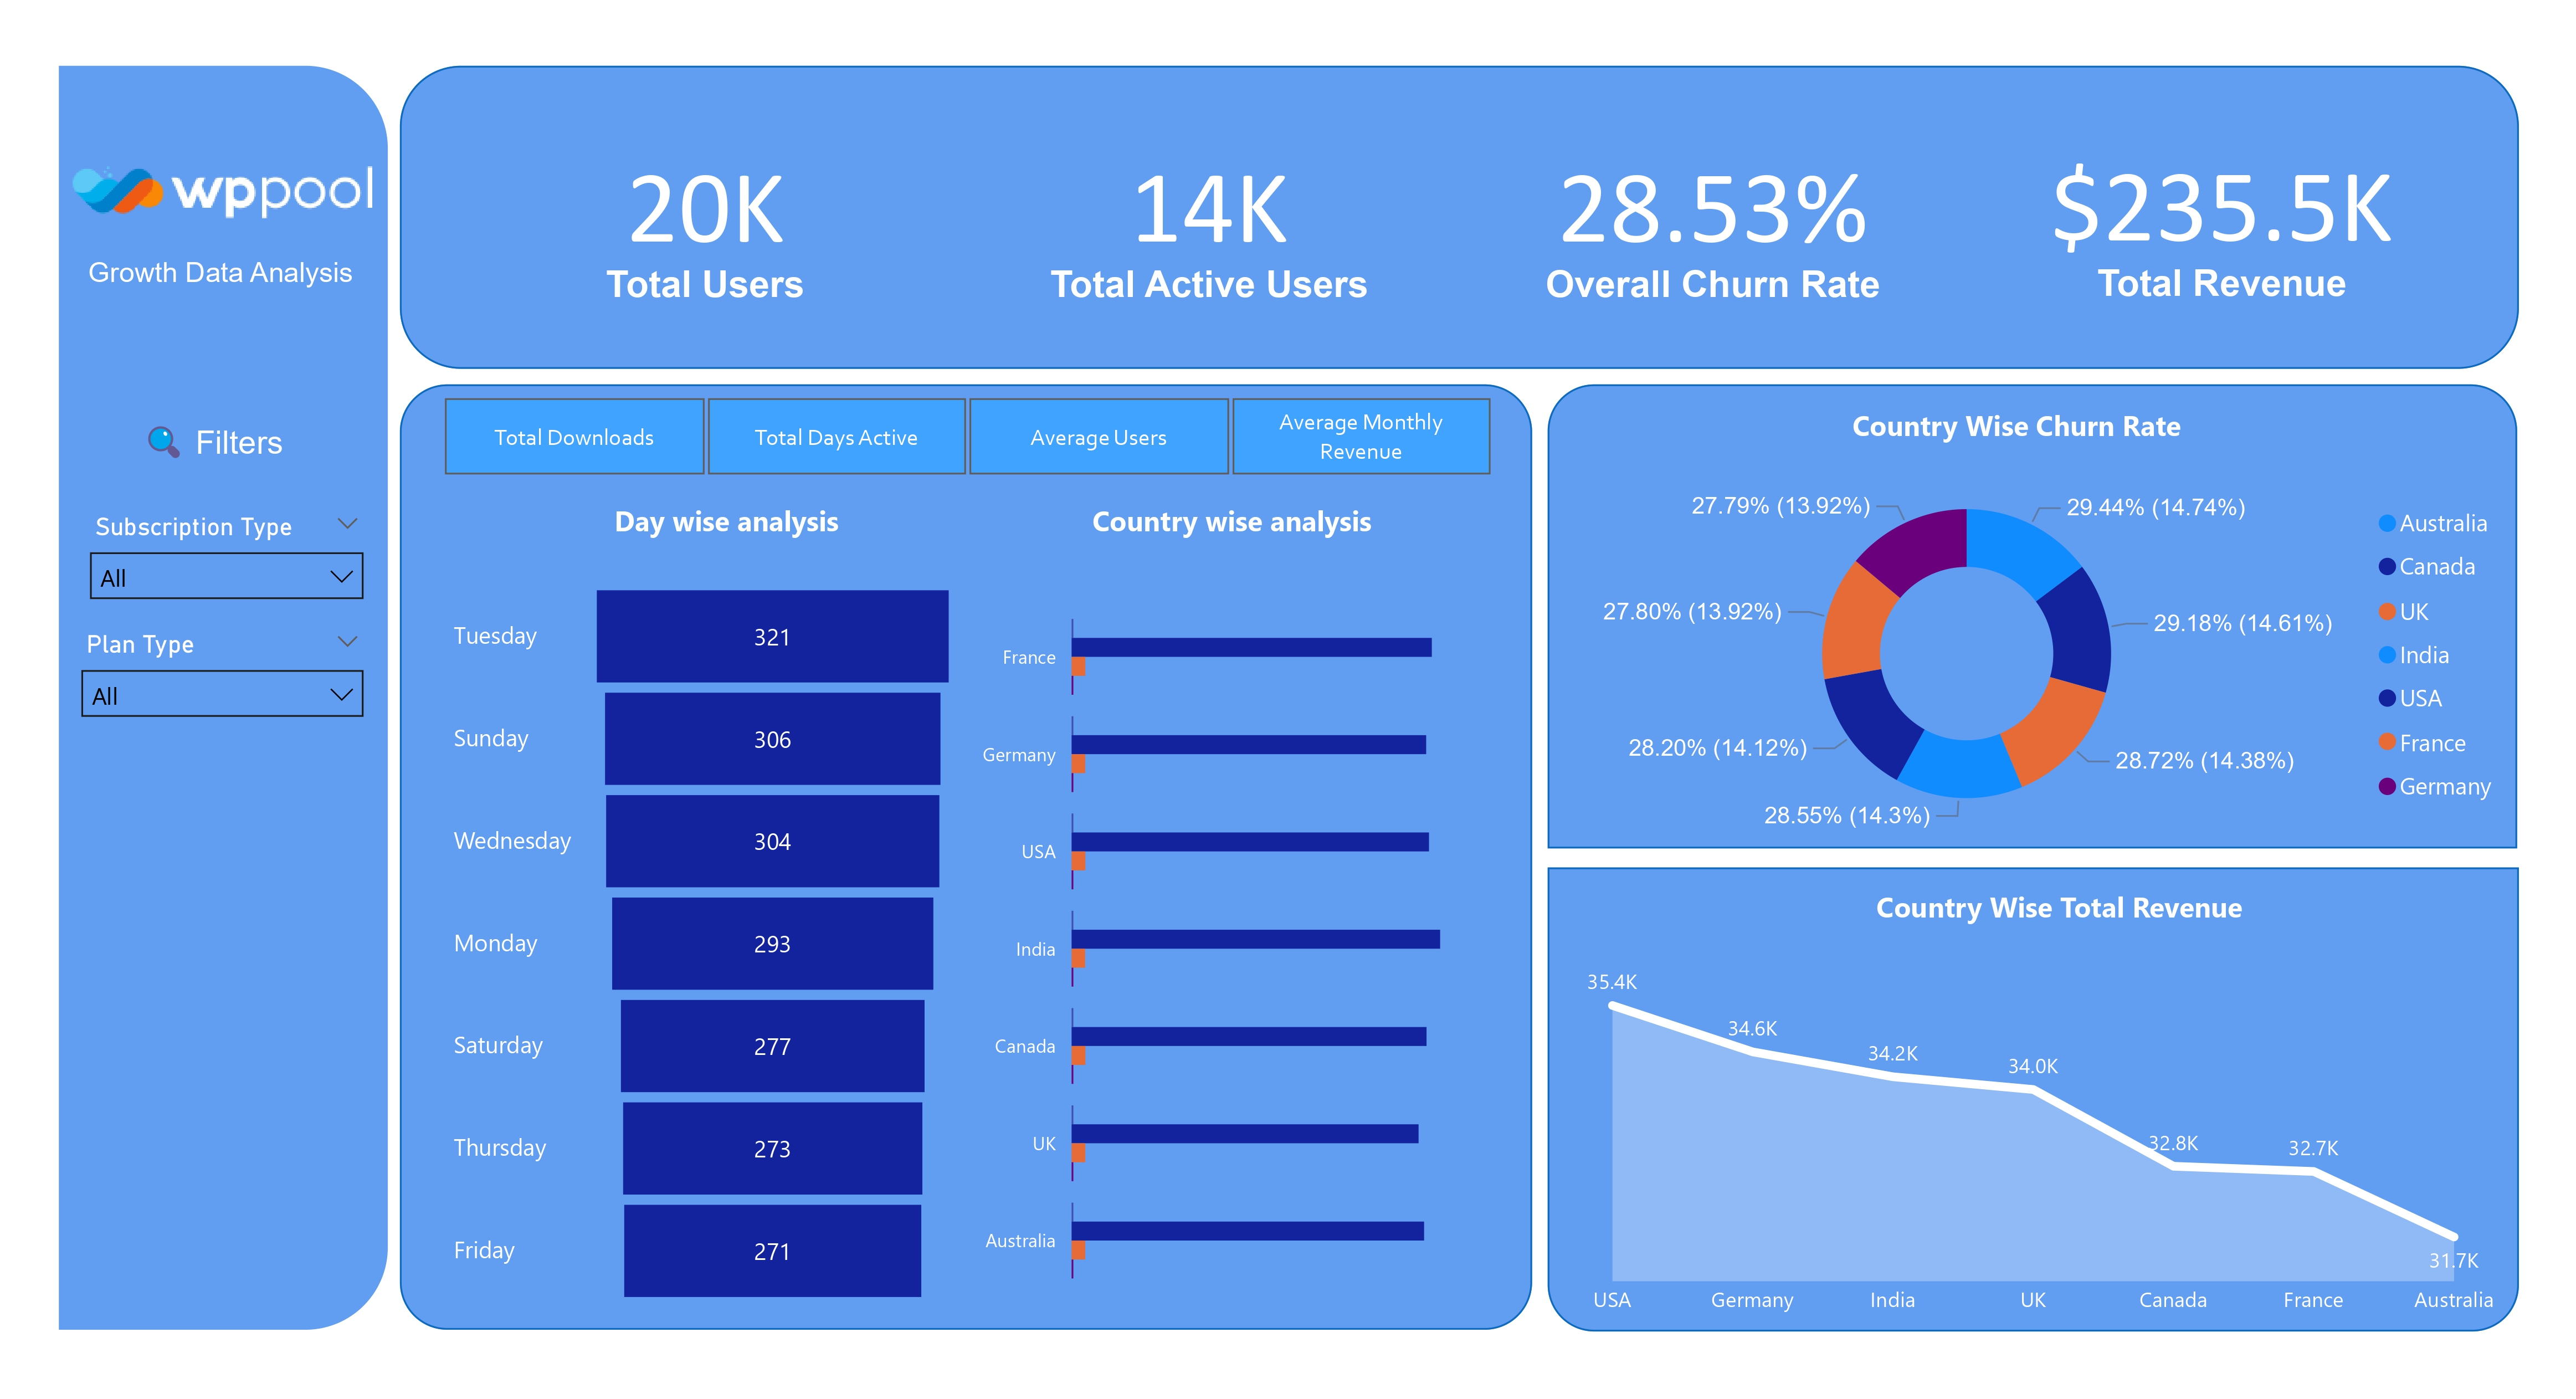

This screenshot's page, from the dashboard's own definition file:
{"tool":"powerbi","page":{"name":"Page 1","canvas":[1440,760],"ordinal":0},"visuals":[{"type":"shape","box":[207,198,654,546],"z":0,"group":"g5"},{"type":"shape","box":[870,198,560,268],"z":0,"group":"g3"},{"type":"group","id":"g1","title":"Group 1","box":[206.7,14,1224.4,174.9],"z":1000},{"type":"shape","box":[206.7,14.4,1224.4,174.4],"z":1000,"group":"g1"},{"type":"group","id":"g2","title":"Group 2","box":[10,14.4,190,730],"z":2000},{"type":"card","fields":{"Values":["growth_data users.Total Users"]},"box":[278.9,14.4,208.9,174.4],"z":2000,"group":"g1"},{"type":"card","fields":{"Values":["growth_data users.Total Active Users"]},"box":[570,14.4,208.9,174.4],"z":3000,"group":"g1"},{"type":"group","id":"g3","title":"Group 3","box":[870,198,560,268],"z":3000},{"type":"shape","box":[870,477,561,268],"z":3000,"group":"g4"},{"type":"card","fields":{"Values":["growth_data users.Churn Rate"]},"box":[861.1,14.4,208.9,174.4],"z":4000,"group":"g1"},{"type":"slicer","fields":{"Values":["Metrics.Metrics"]},"box":[207,199,654,54],"z":4000,"group":"g5"},{"type":"areaChart","fields":{"Category":["growth_data users.country"],"Y":["Sum(growth_data users.monthly_revenue)"]},"box":[870,520,561,225],"z":4000,"group":"g4"},{"type":"card","fields":{"Values":["growth_data users.Total Revenue"]},"box":[1150,14,219,174],"z":5000,"group":"g1"},{"type":"clusteredBarChart","fields":{"Y":["growth_data users.Total Downloads","growth_data users.Total Days Active","growth_data users.Average Users","growth_data users.Average Monthly Revenue"],"Category":["growth_data users.country"]},"box":[534.3,298,303.6,445.5],"z":5000,"group":"g5"},{"type":"textbox","box":[1055,484,242,36],"z":5000,"group":"g4"},{"type":"shape","box":[10,14.4,190,730],"z":6000,"group":"g2"},{"type":"textbox","box":[602,261,187,38],"z":6000,"group":"g5"},{"type":"image","box":[13.3,53.4,182.2,67.4],"z":7000,"group":"g2"},{"type":"group","id":"g4","title":"Group 4","box":[870,477,561,268],"z":7000},{"type":"textbox","box":[18,120,171,29],"z":8000,"group":"g2"},{"type":"funnel","fields":{"Y":["growth_data users.Total Downloads"],"Category":["growth_data users.Day Name"]},"box":[233.4,298,300.9,445.5],"z":8000,"group":"g5"},{"type":"slicer","fields":{"Values":["growth_data users.subscription_type"]},"box":[13,261,183,69],"z":9000,"group":"g2"},{"type":"textbox","box":[326,261,152,38],"z":9000,"group":"g5"},{"type":"group","id":"g5","title":"Group 5","box":[207,198,654,546],"z":9001},{"type":"slicer","fields":{"Values":["growth_data users.plan_type"]},"box":[13.3,335.7,182.2,61.1],"z":10000,"group":"g2"},{"type":"textbox","box":[53.3,213.5,105.6,37.9],"z":11000,"group":"g2"},{"type":"donutChart","fields":{"Category":["growth_data users.country"],"Y":["growth_data users.Churn Rate"]},"box":[870,241.4,560,224.6],"z":15000,"group":"g3"},{"type":"textbox","box":[1041,206,221,35],"z":16000,"group":"g3"}]}

Visuals, with their boxes in screenshot pixels (x1, y1, x2, y2):
shape: box(392, 376, 1546, 1340)
shape: box(1562, 376, 2549, 849)
"Group 1" group: box(392, 52, 2552, 360)
shape: box(392, 52, 2552, 360)
"Group 2" group: box(44, 52, 379, 1340)
card - growth_data users.Total Users: box(519, 52, 887, 360)
card - growth_data users.Total Active Users: box(1033, 52, 1401, 360)
"Group 3" group: box(1562, 376, 2549, 849)
shape: box(1562, 868, 2552, 1341)
card - growth_data users.Churn Rate: box(1546, 52, 1915, 360)
slicer - Metrics.Metrics: box(392, 378, 1546, 473)
areaChart - growth_data users.country x Sum(growth_data users.monthly_revenue): box(1562, 944, 2552, 1341)
card - growth_data users.Total Revenue: box(2056, 52, 2442, 358)
clusteredBarChart - growth_data users.Total Downloads x growth_data users.Total Days Active: box(969, 552, 1505, 1339)
textbox: box(1888, 881, 2315, 944)
shape: box(44, 52, 379, 1340)
textbox: box(1089, 488, 1419, 555)
image: box(50, 121, 372, 240)
"Group 4" group: box(1562, 868, 2552, 1341)
textbox: box(59, 239, 360, 290)
funnel - growth_data users.Total Downloads x growth_data users.Day Name: box(439, 552, 969, 1339)
slicer - growth_data users.subscription_type: box(50, 488, 373, 609)
textbox: box(602, 488, 870, 555)
"Group 5" group: box(392, 376, 1546, 1340)
slicer - growth_data users.plan_type: box(50, 619, 372, 727)
textbox: box(121, 403, 307, 470)
donutChart - growth_data users.country x growth_data users.Churn Rate: box(1562, 453, 2549, 849)
textbox: box(1864, 390, 2253, 452)
